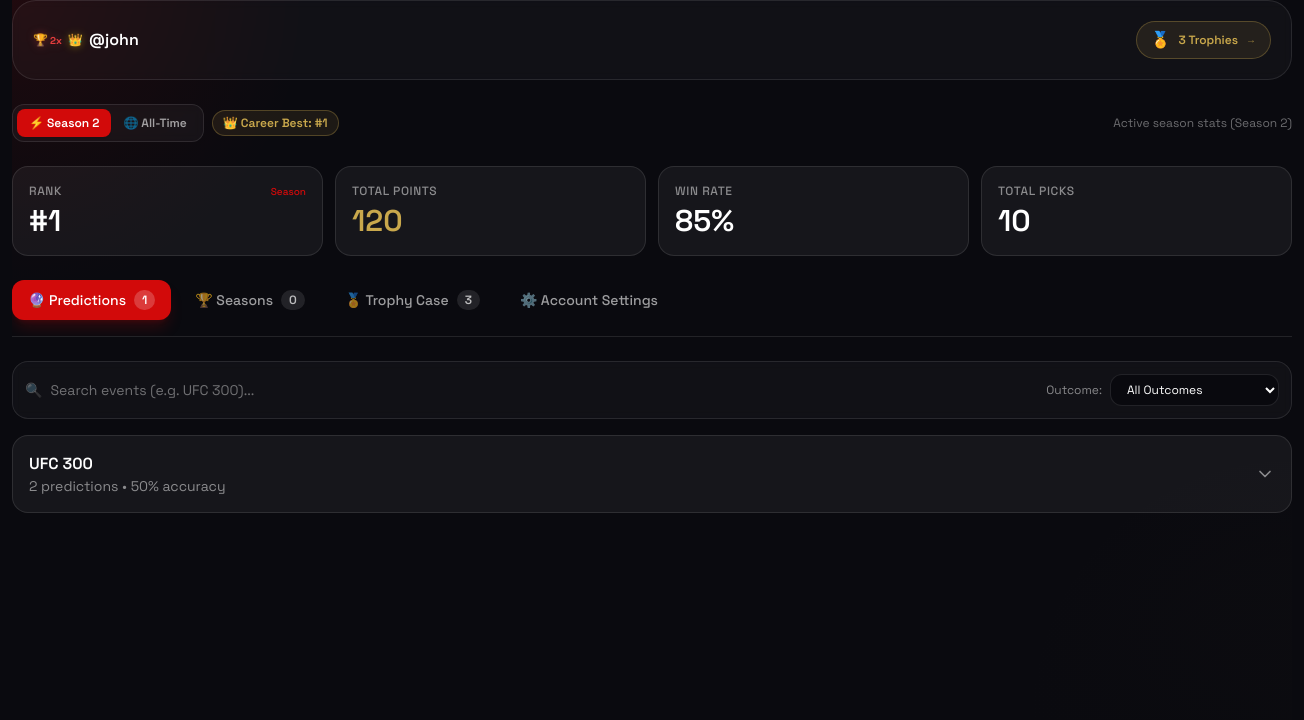
it: ProfileView › toggles between current season stats and all-time stats
Expected: the text "#1" is shown, [29,201,61,240]
Expected: the text "120" is shown, [352,201,403,240]
# Toggle to All-Time
Click the button "🌐 All-Time" at (155, 123), box [111,109,199,137]
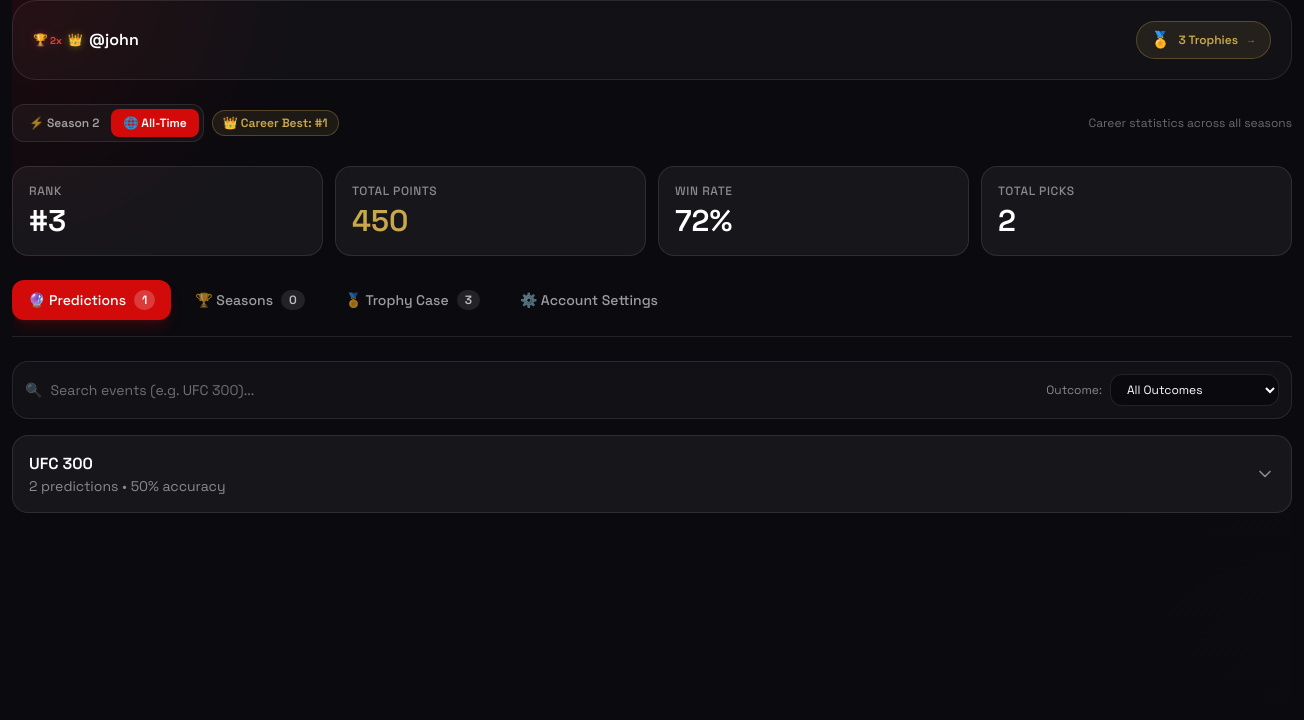
Expected: the text "#3" is shown, [29,201,66,240]
Expected: the text "450" is shown, [352,201,408,240]
Expected: the text "72%" is shown, [675,201,732,240]
